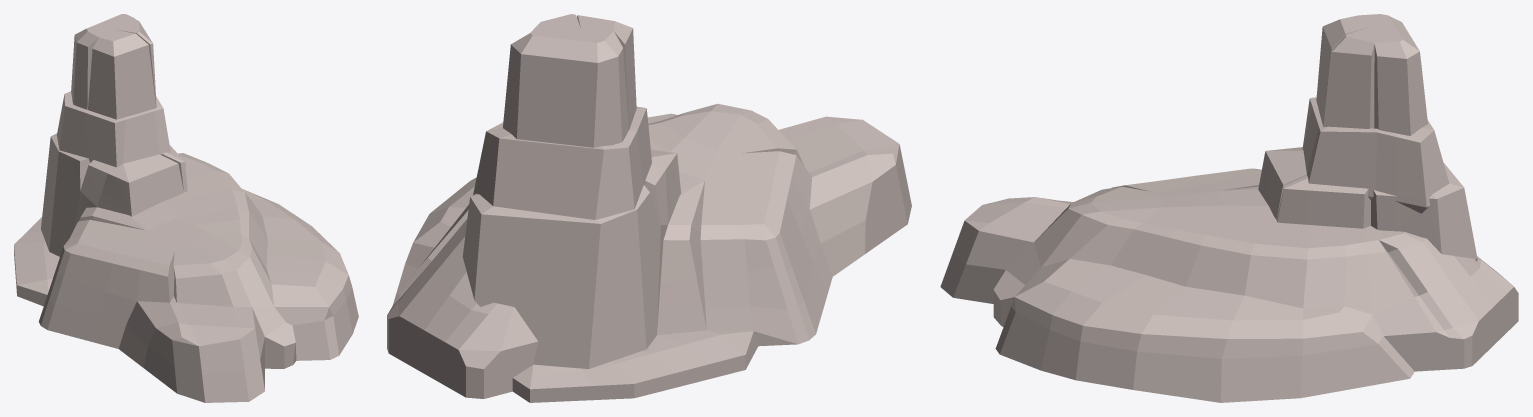
File: rocks_3.fbx
3 views of the same model, side by side, from view 1: azimuth 30°, elevation 25°; view 2: azimuth 150°, elevation 25°; view 3: azimuth 270°, elevation 25° (orthographic). The views are drawn at different scales.
Parts seen in each view (by area): view 1: 3; view 2: 3; view 3: 3.
Part boxes in pixels (x1,y1,x2,y2): 3: (14,14,358,402); 3: (387,14,911,402); 3: (940,14,1518,402).
Size of the model in its own units: 497 by 406 by 747.
1 material, 1 textured.
